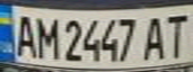2: (60, 15, 84, 62)
4: (81, 15, 103, 63), (100, 15, 121, 63)
7: (115, 15, 142, 62)
A: (139, 12, 169, 61), (9, 11, 39, 58)
M: (33, 12, 60, 61)
T: (160, 10, 193, 60)
